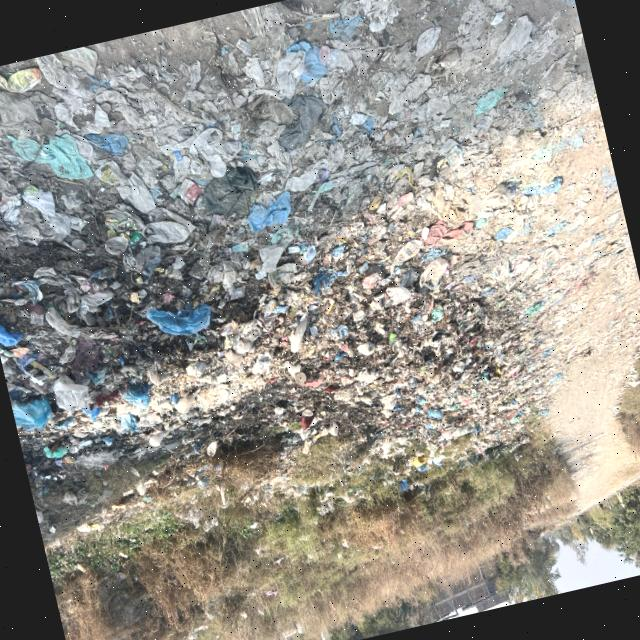garbage: (229, 0, 559, 482), (0, 13, 317, 462)
